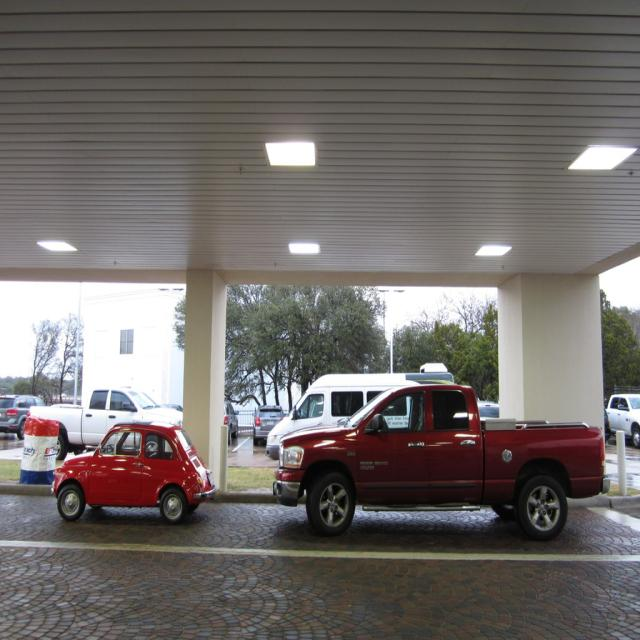Passenger Car: (52, 421, 216, 526)
Pickup Trucks: (274, 386, 607, 537)
